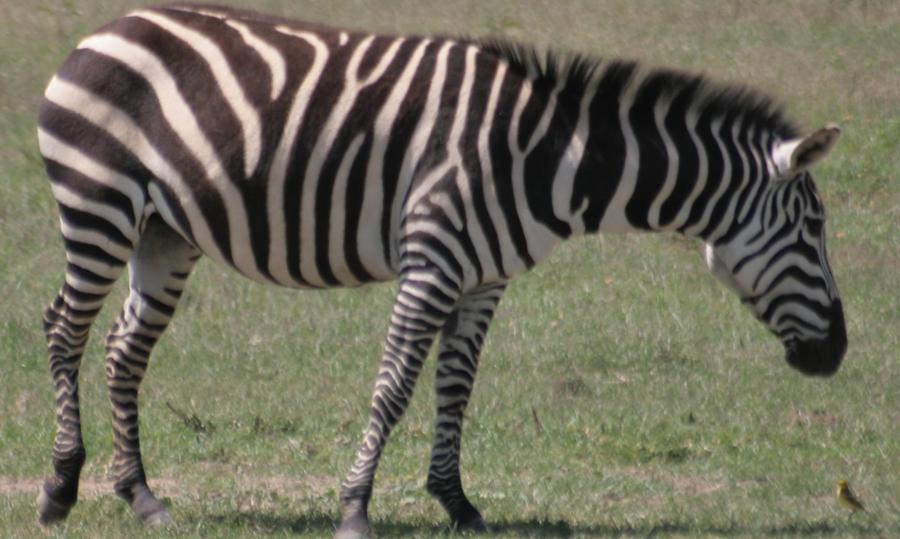zebra_plains: (28, 2, 526, 267)
